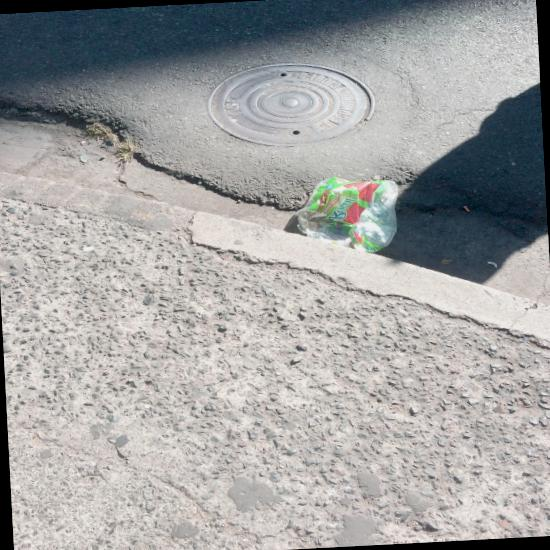Broken glass: (80, 154, 90, 162)
Cigarette: (464, 206, 470, 212)
Plastic film: (295, 177, 398, 254)
